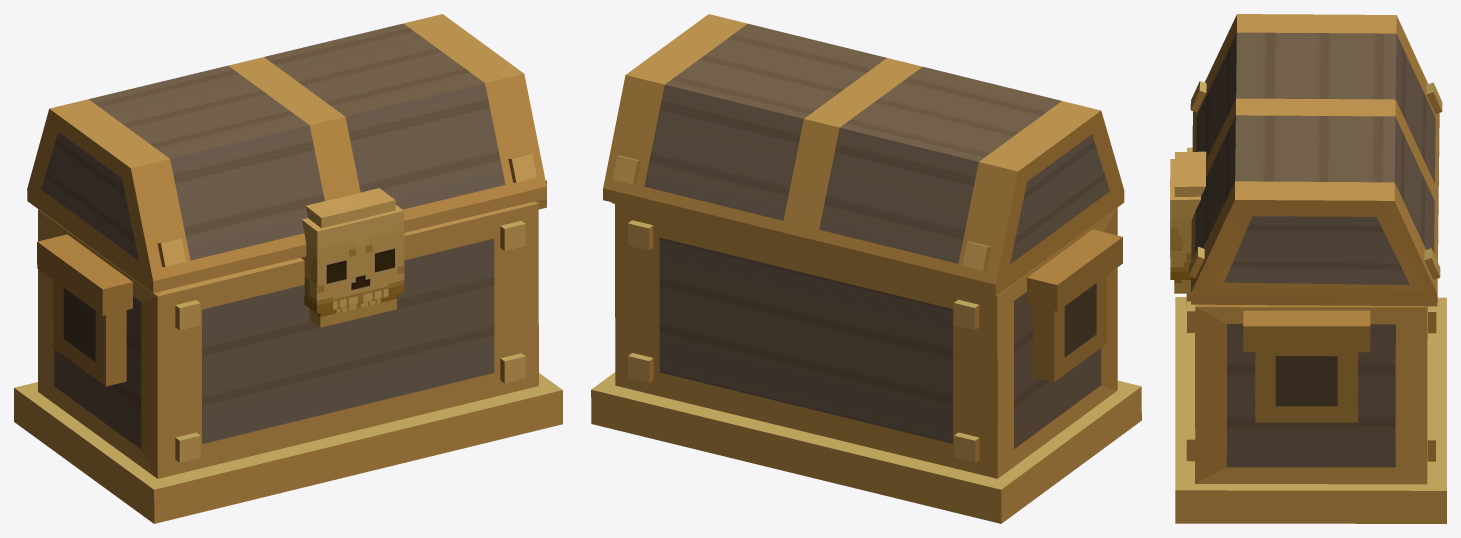
The model's file is chest_2.glb.
3 views of the same model, side by side, from view 1: azimuth 30°, elevation 25°; view 2: azimuth 150°, elevation 25°; view 3: azimuth 270°, elevation 25° (orthographic). The views are drawn at different scales.
Visible parts, largest first — view 1: SD_Prop_Chest_Skull_01, SD_Prop_Chest_Skull_Lid_01; view 2: SD_Prop_Chest_Skull_01, SD_Prop_Chest_Skull_Lid_01; view 3: SD_Prop_Chest_Skull_Lid_01, SD_Prop_Chest_Skull_01.
Boxes of the visible parts, x1,y1,x2,y2 form: SD_Prop_Chest_Skull_01: [14, 180, 562, 523]; SD_Prop_Chest_Skull_Lid_01: [27, 14, 546, 327]; SD_Prop_Chest_Skull_01: [591, 202, 1141, 523]; SD_Prop_Chest_Skull_Lid_01: [603, 14, 1124, 296]; SD_Prop_Chest_Skull_Lid_01: [1170, 14, 1442, 306]; SD_Prop_Chest_Skull_01: [1175, 147, 1446, 523].
Size of the model in its own units: 1.4 by 0.9988 by 0.7818.
Materials: 2 (2 with a texture image).
